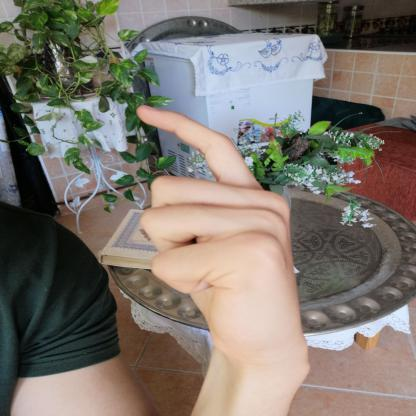RAA: (120, 94, 322, 374)
